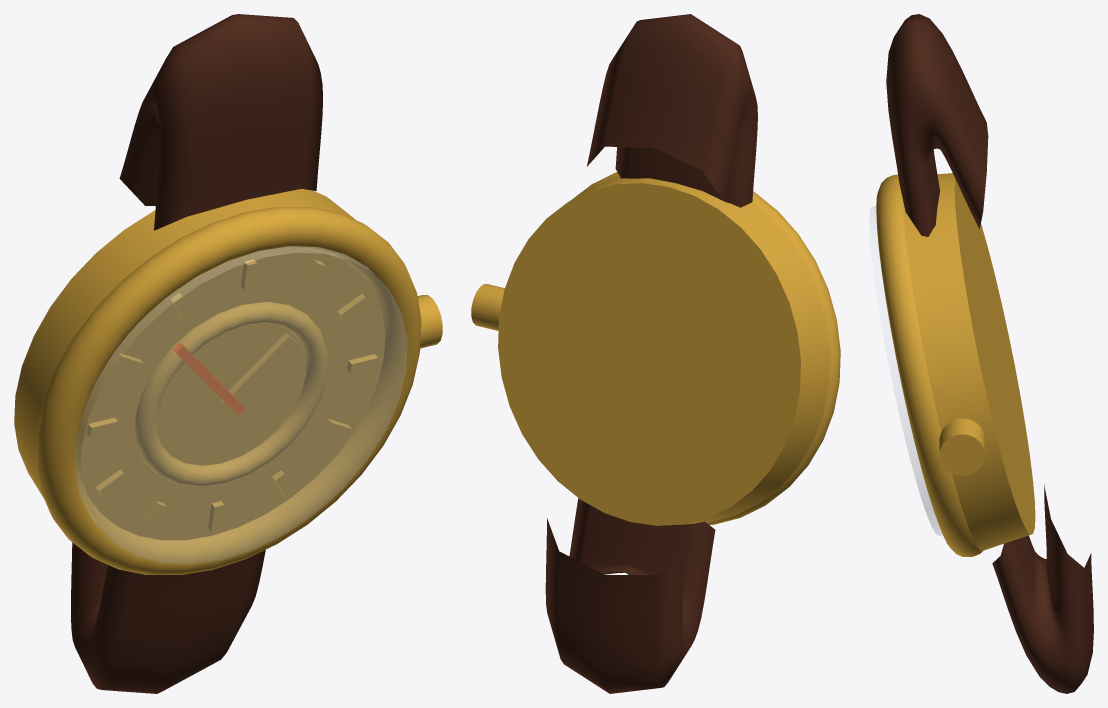
File: wristwatch.glb
The picture shows the model from 3 angles, left to right: view 1: azimuth 30°, elevation 25°; view 2: azimuth 150°, elevation 25°; view 3: azimuth 270°, elevation 25°; orthographic projection. The views are drawn at different scales.
Visible parts, largest first — view 1: Wristwatch; view 2: Wristwatch; view 3: Wristwatch.
Part boxes in pixels (box(x1,y1,x2,y2)): Wristwatch: box(14, 14, 442, 693); Wristwatch: box(471, 14, 840, 693); Wristwatch: box(869, 14, 1093, 693).
Bounding box in the file's own units: 1 × 1.74 × 0.5346.
